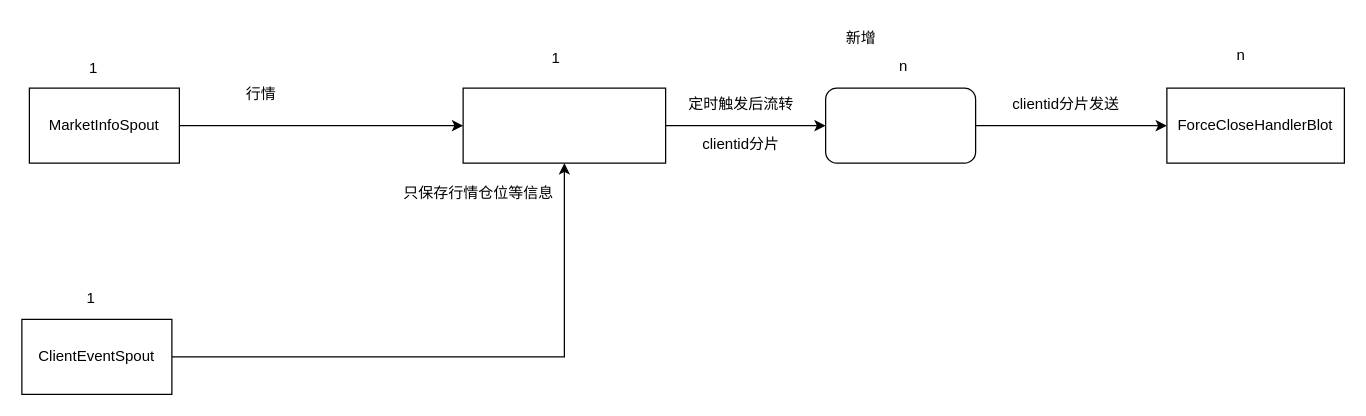
Image size: 1366x416. Some labels were removed from this diagram. Each missing label, with the centre of its shape:
"ClientEventHandlerBlot" goes at pixel 564 125.
"计算强平价blot" goes at pixel 900 125.
